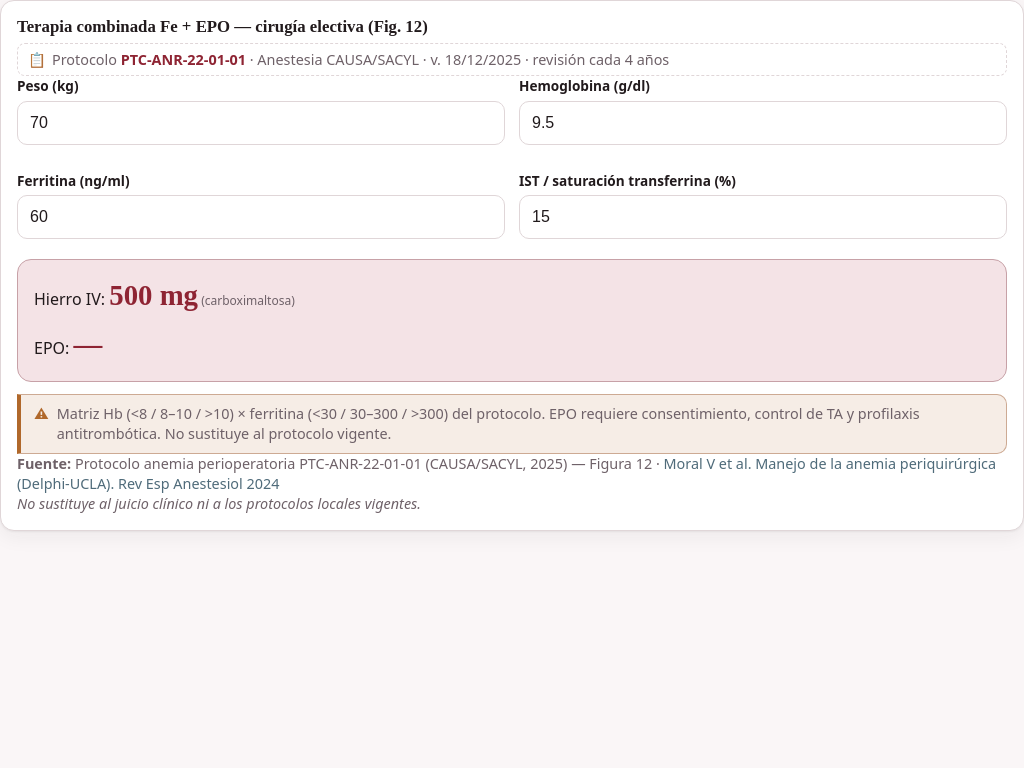
Test: Pantallas de ferropenia — regresión Fase 2a › Electiva: IST inválida bloquea (antes se saltaba la derivación y se pautaba)
The width and height of the screenshot is (1024, 768).
Replace the text in the field labelled "IST / saturación transferrina (%)" with "24%" at (763, 217), box [519, 195, 1007, 239]
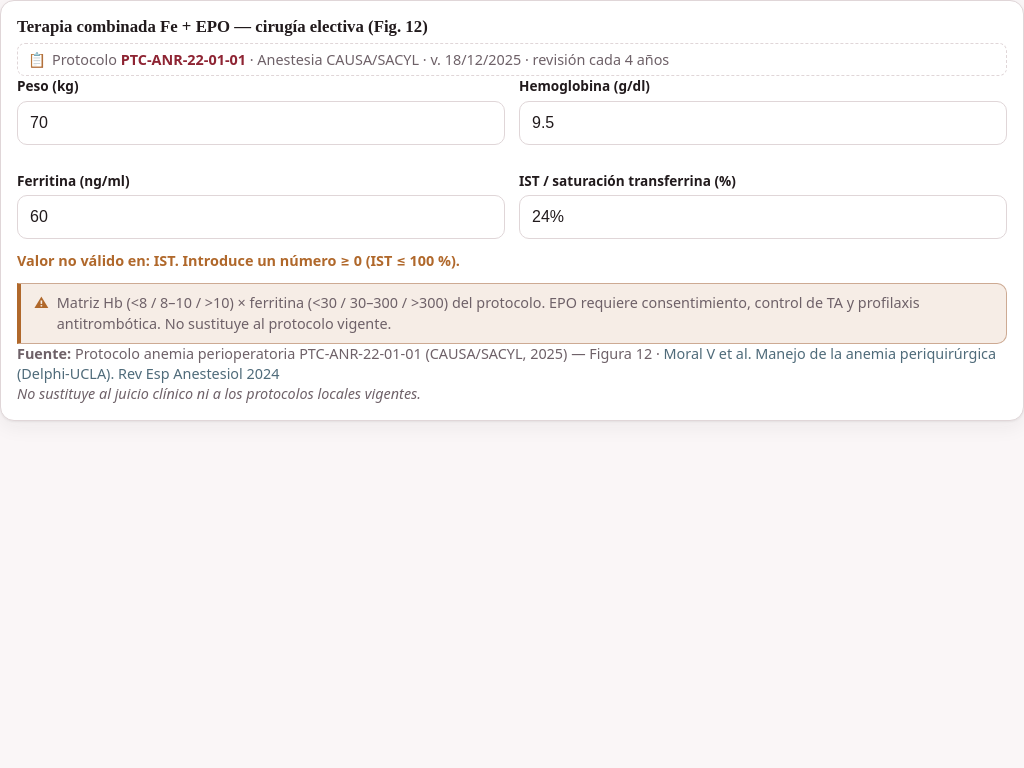
Expected: the message shows "IST", [154, 251, 175, 270]
Expected: the text "Hierro IV:" is gone
